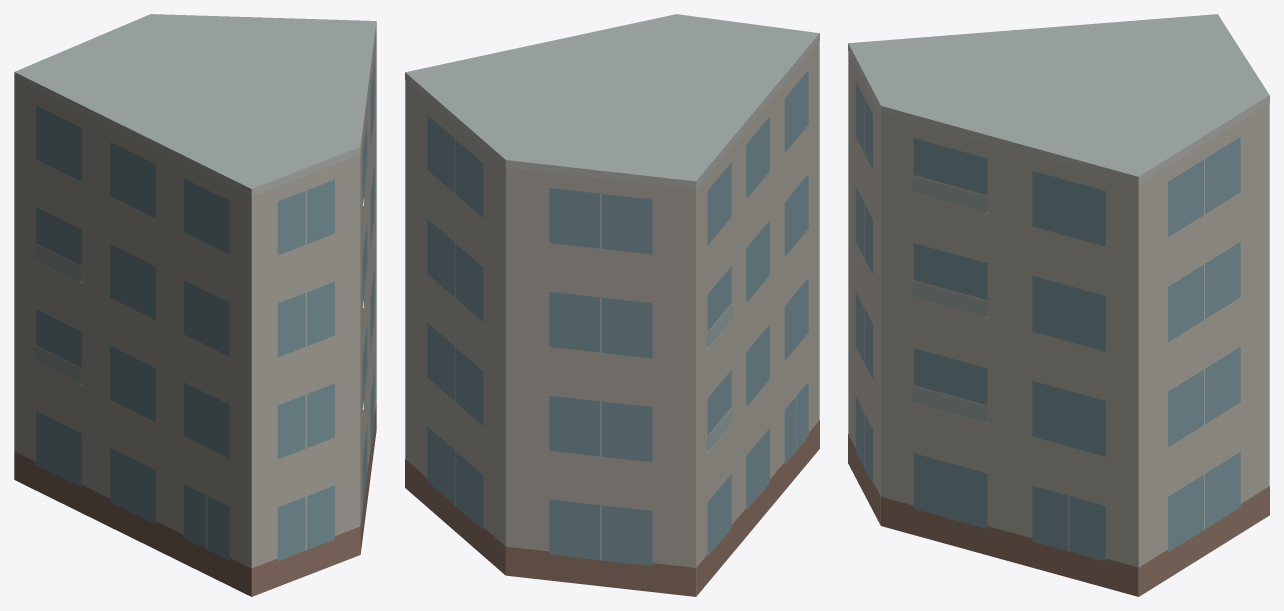
Rendered from survey-upis-32478155.glb.
The picture shows the model from 3 angles, left to right: view 1: azimuth 30°, elevation 25°; view 2: azimuth 150°, elevation 25°; view 3: azimuth 270°, elevation 25°; orthographic projection. The views are drawn at different scales.
Visible parts, largest first — view 1: survey-upis-32478155.tmp; view 2: survey-upis-32478155.tmp; view 3: survey-upis-32478155.tmp.
Part boxes in pixels (x1,y1,x2,y2): survey-upis-32478155.tmp: [14, 14, 376, 596]; survey-upis-32478155.tmp: [405, 14, 819, 596]; survey-upis-32478155.tmp: [848, 14, 1269, 596].
Bounding box in the file's own units: 10.98 × 13.2 × 12.02.
